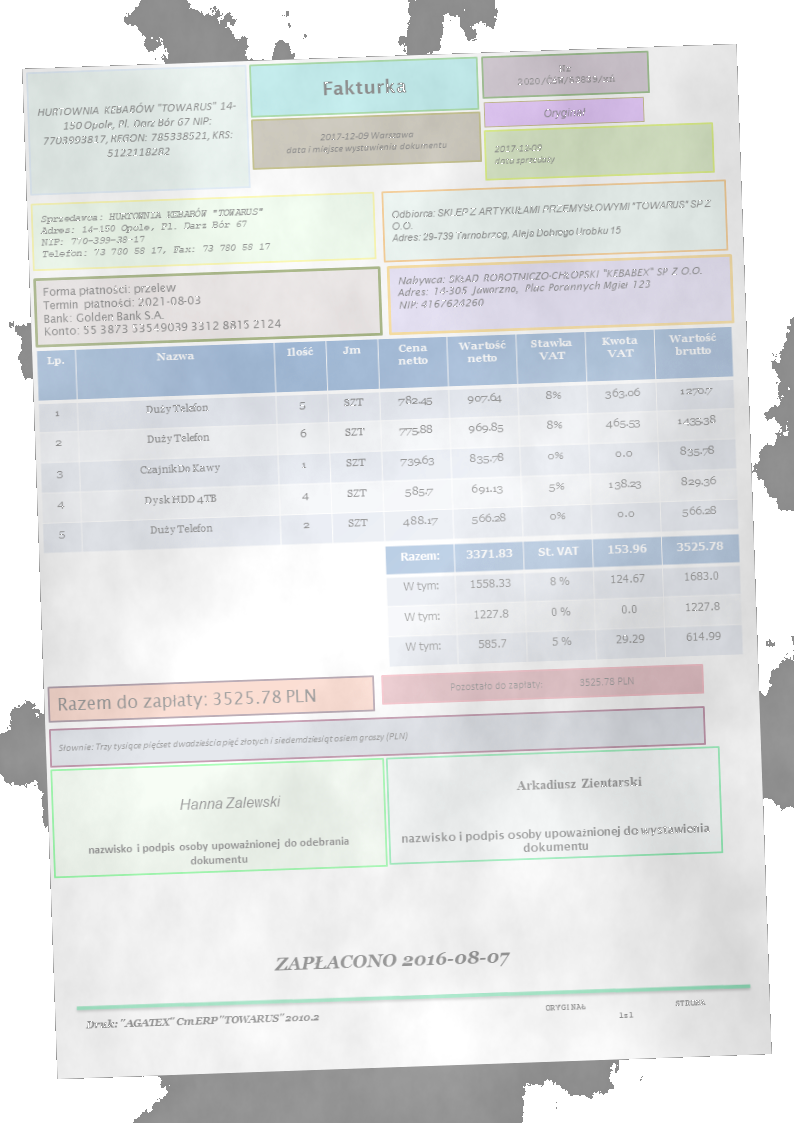Table: (35, 324, 741, 555), (383, 531, 744, 666)
TextBox: (386, 192, 715, 249), (392, 259, 707, 315), (38, 276, 284, 338), (35, 201, 274, 263), (34, 96, 241, 166), (397, 816, 715, 859), (83, 830, 355, 873), (53, 725, 411, 757), (51, 679, 319, 716), (271, 942, 515, 979), (81, 1008, 326, 1036), (280, 122, 450, 158), (542, 994, 708, 1026), (444, 670, 640, 696), (513, 771, 646, 797), (515, 58, 620, 90), (174, 787, 283, 816), (316, 73, 410, 99), (490, 139, 558, 171), (540, 102, 590, 121)
